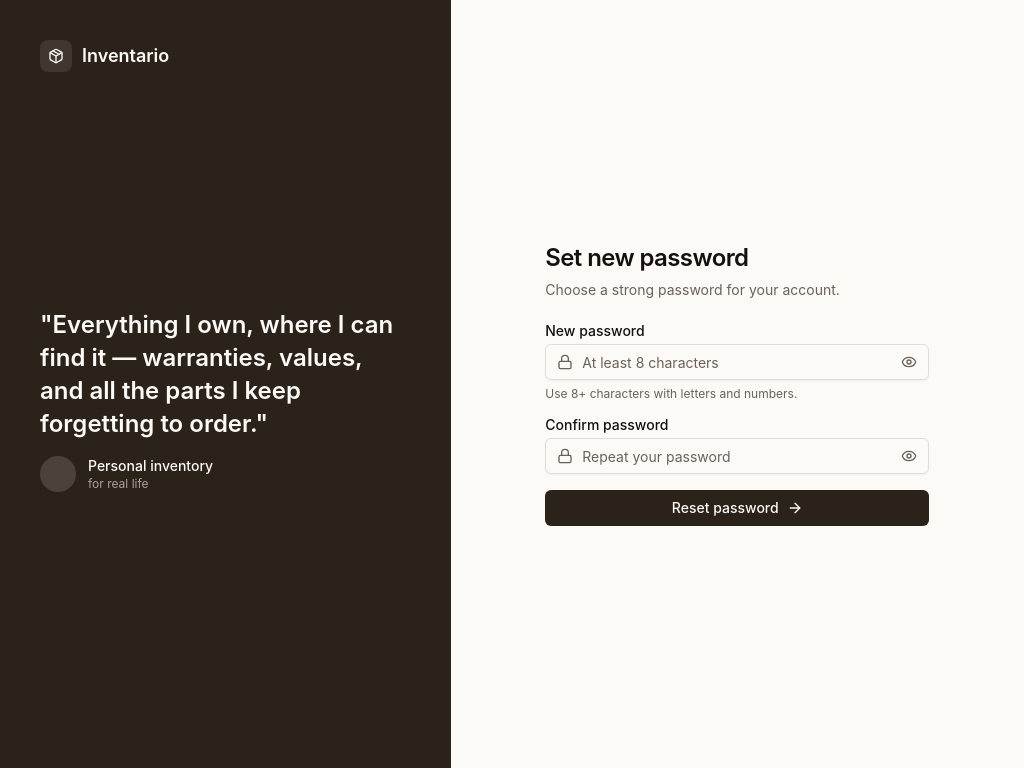
it: <ResetPasswordPage /> › validates min length and matching confirmation
Type "short" into the password field with test id "password" at (737, 362), box x1=545 y1=344 x2=929 y2=380
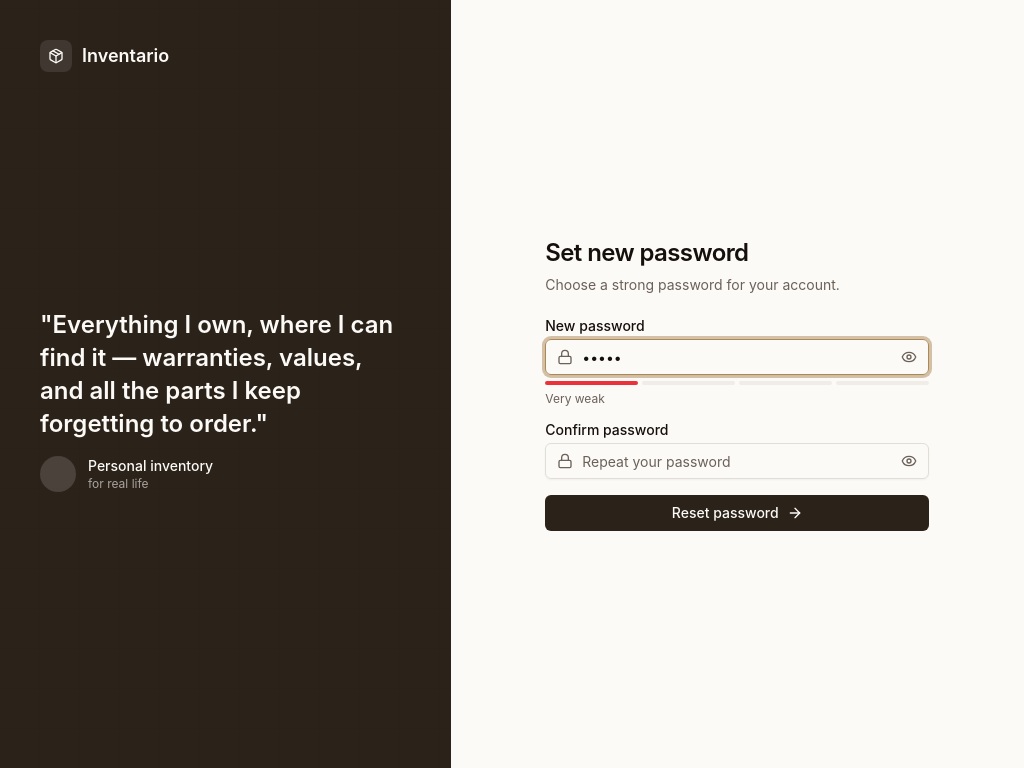
Type "different" into the password field with test id "confirm-password" at (737, 461), box x1=545 y1=443 x2=929 y2=479
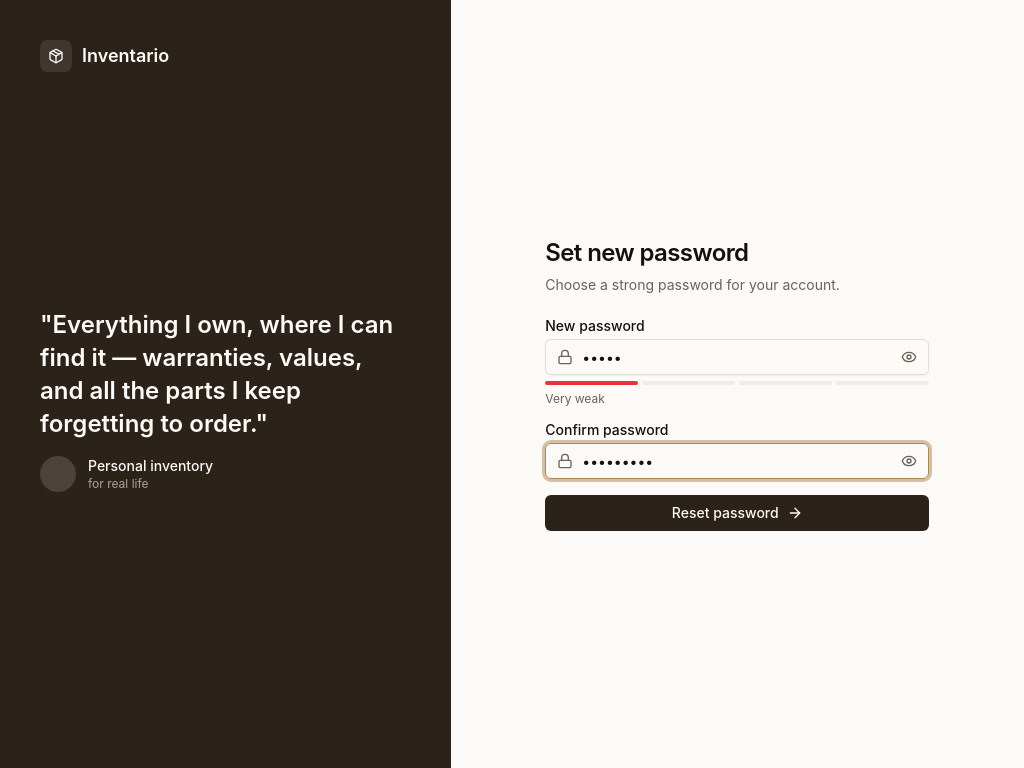
Click the button with test id "submit-button" at (737, 513), box x1=545 y1=495 x2=929 y2=531
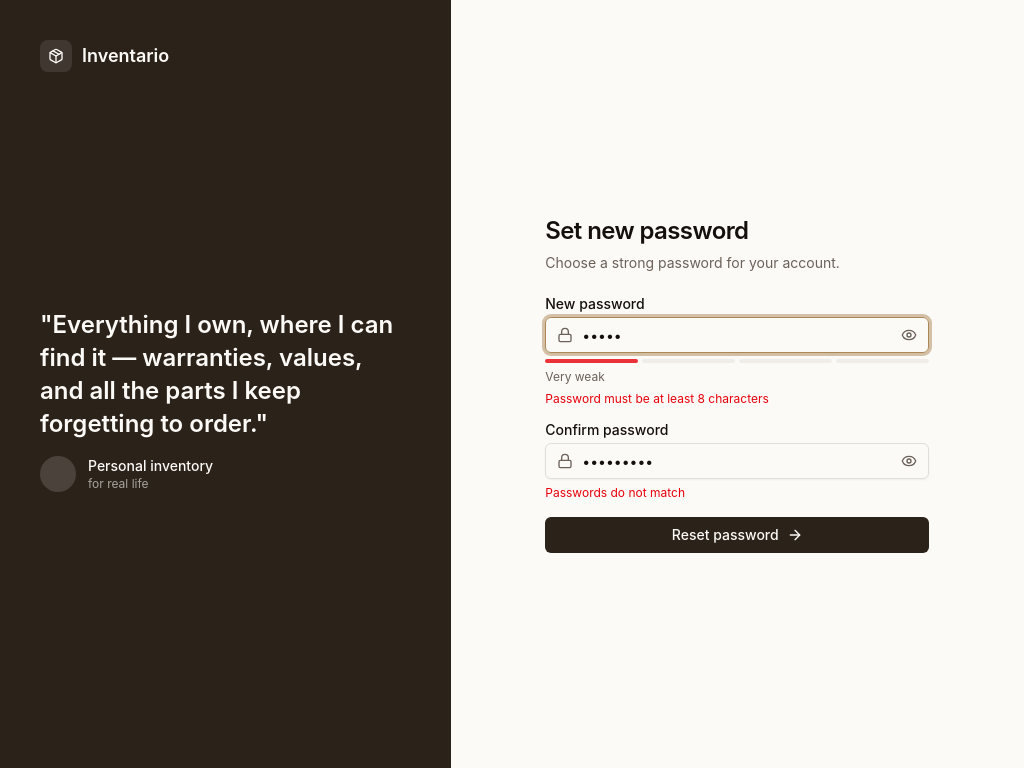
expect the text "Password must be at least 8 characters" is shown: met, box x1=545 y1=391 x2=769 y2=406
